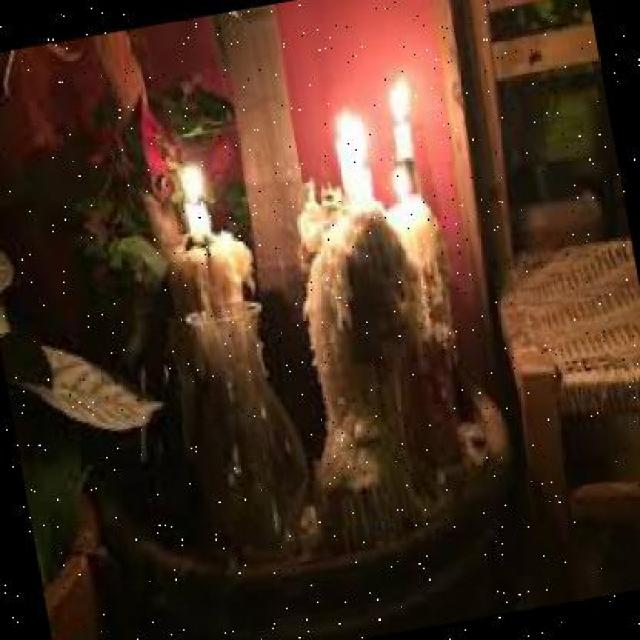fire: (325, 89, 366, 148), (378, 70, 417, 124), (168, 157, 205, 208)
